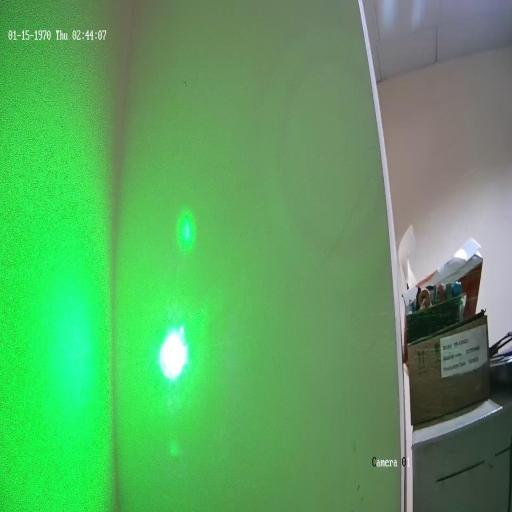laser: (152, 317, 192, 388)
